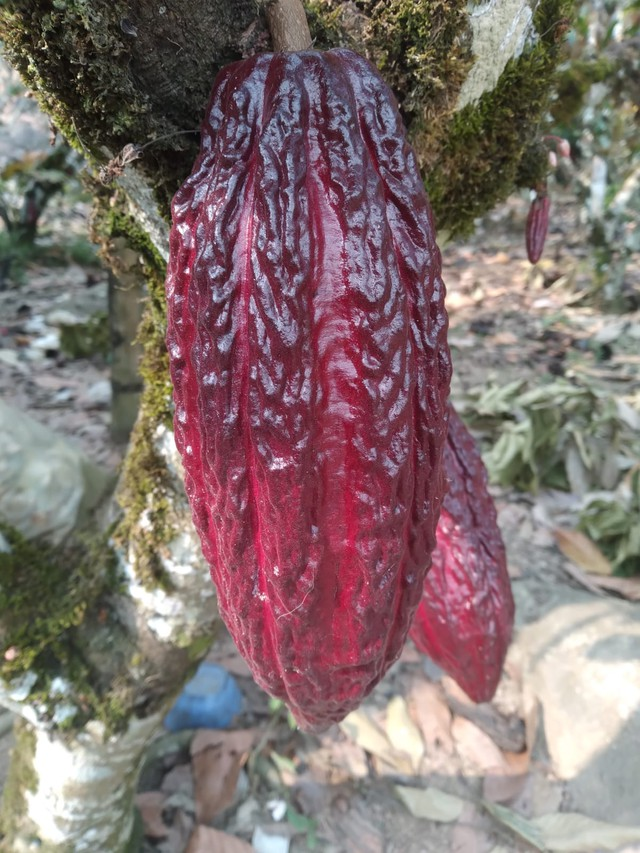Health: (154, 38, 464, 742)
